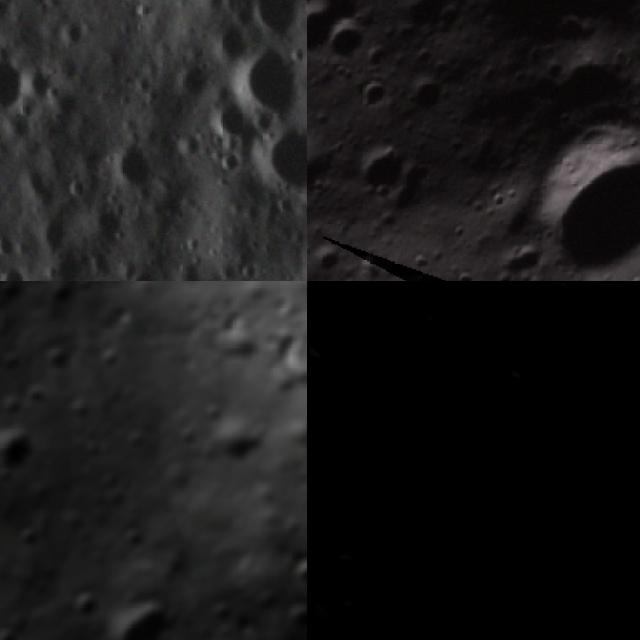crater: (498, 89, 640, 281), (384, 480, 510, 606), (452, 0, 640, 75), (215, 18, 307, 141), (522, 501, 627, 605), (307, 480, 409, 583), (464, 534, 562, 631), (82, 125, 175, 219), (238, 99, 307, 222), (454, 375, 540, 461), (342, 134, 426, 221), (307, 551, 381, 639), (342, 445, 422, 525), (94, 578, 188, 640), (387, 281, 478, 340), (200, 409, 274, 480), (482, 320, 554, 390), (520, 457, 590, 526), (197, 84, 262, 152), (317, 9, 382, 75), (0, 35, 44, 131), (394, 62, 459, 126), (236, 0, 307, 57), (198, 14, 261, 76), (0, 413, 50, 490), (162, 50, 224, 111), (320, 336, 380, 396), (307, 300, 356, 373), (307, 365, 352, 434), (375, 384, 431, 439), (398, 366, 452, 420), (307, 0, 351, 66), (348, 69, 400, 122), (60, 582, 110, 632), (307, 230, 354, 281), (396, 621, 487, 640), (105, 258, 174, 281), (278, 549, 307, 600), (275, 594, 307, 640), (0, 281, 33, 316), (0, 258, 44, 281), (105, 0, 167, 14), (0, 617, 32, 640)
